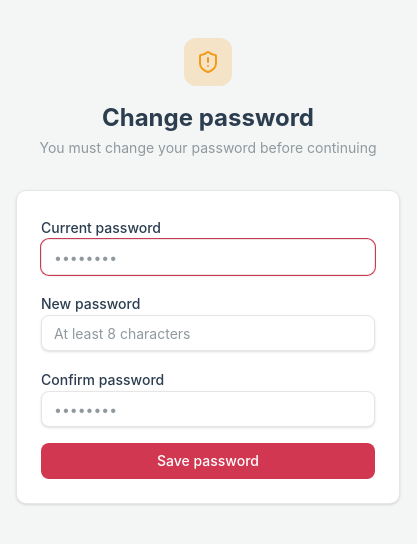
it: ChangePasswordPage › shows validation error when submitting with empty current password
This screenshot has width=417, height=544.
Click the button with test id "change-password-submit".
click(208, 461)  # box left=41, top=443, right=375, bottom=479
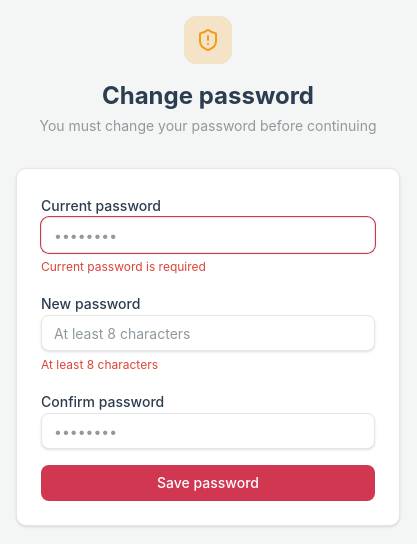
Now the text "Current password is required" is shown, box left=41, top=259, right=206, bottom=274
